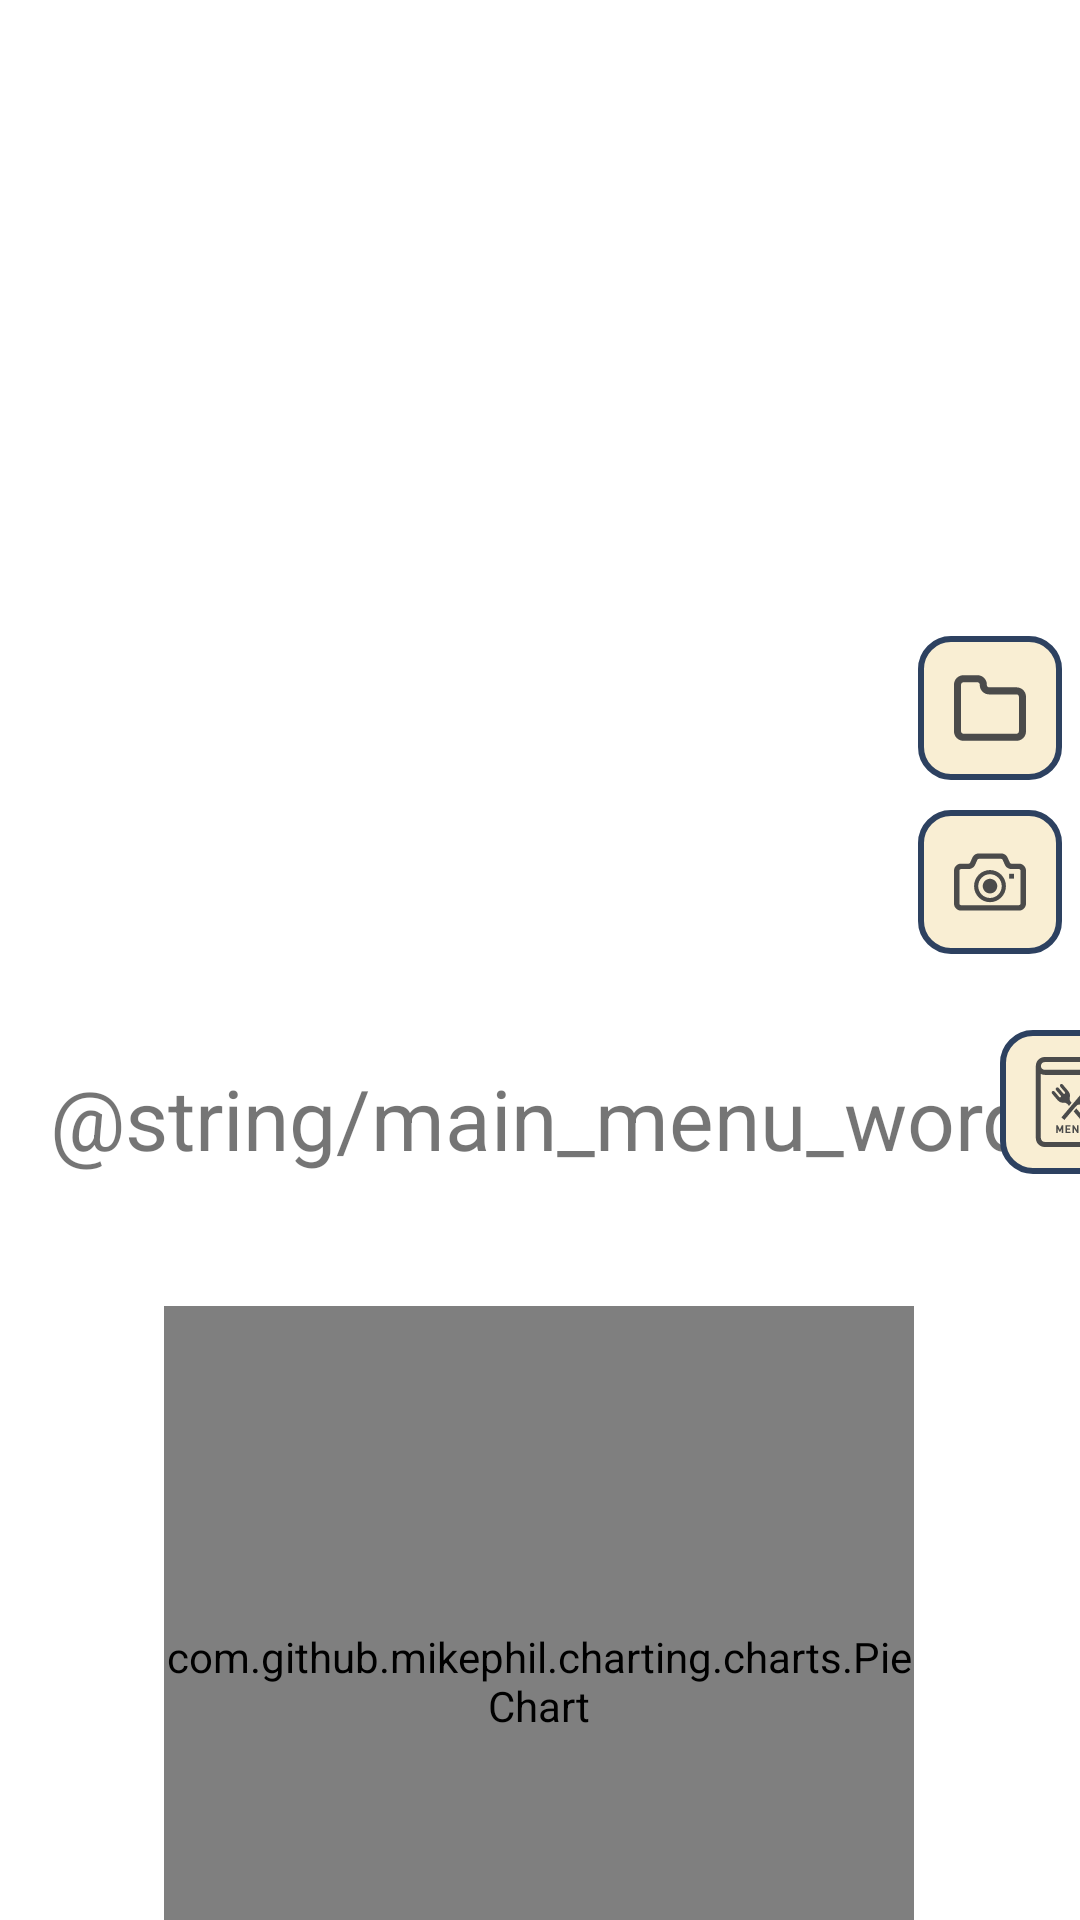

Point at icon controls on the screen. Image size 1080 x 1920, points as point (x, y).
Select Image: point (990, 708)
Take Picture: point (990, 882)
